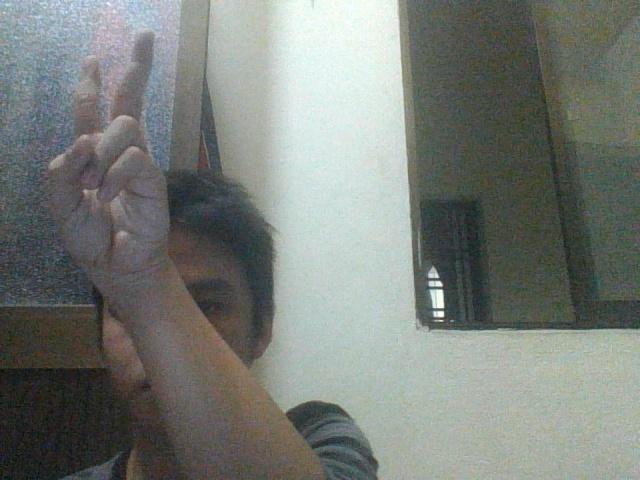wait: (76, 29, 171, 273)
